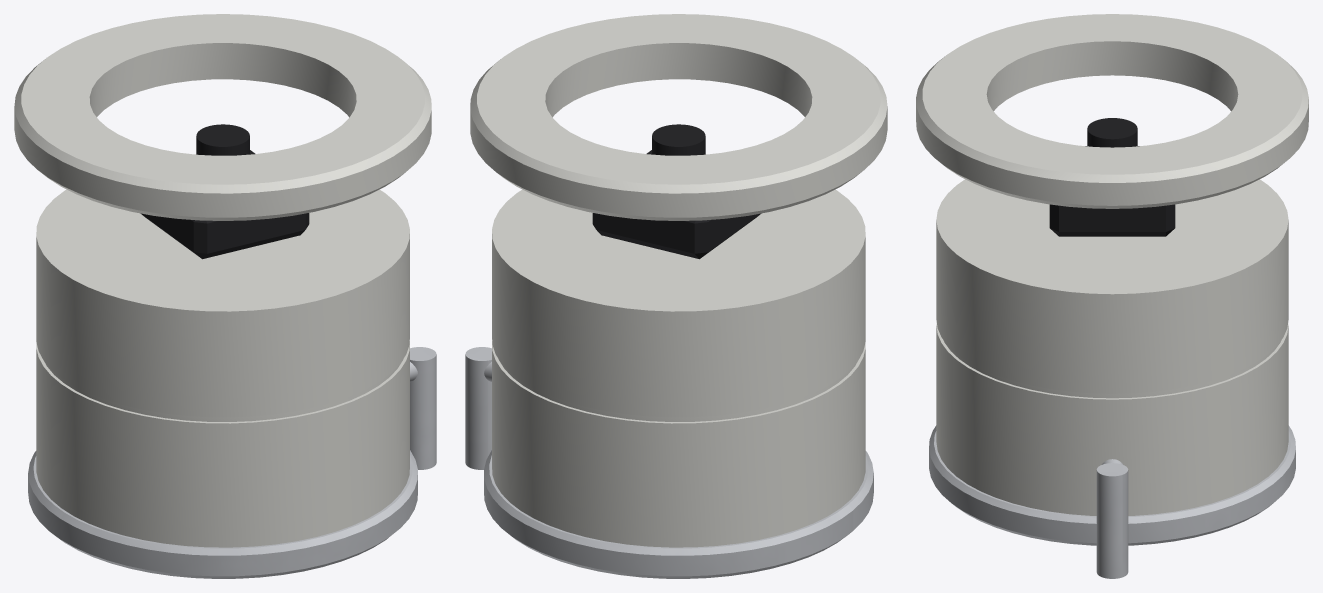
The model's file is ax_prop_17_gridded_ion.glb.
The picture shows the model from 3 angles, left to right: view 1: azimuth 30°, elevation 25°; view 2: azimuth 150°, elevation 25°; view 3: azimuth 270°, elevation 25°; orthographic projection. The views are drawn at different scales.
Parts seen in each view (by area): view 1: discharge_chamber, mount_ring, grid_ring, gimbal, neutraliser; view 2: discharge_chamber, mount_ring, grid_ring, gimbal, neutraliser; view 3: discharge_chamber, mount_ring, grid_ring, gimbal, neutraliser.
Boxes of the visible parts, x1=… form: discharge_chamber: x1=36, y1=154, x2=409, y2=547; mount_ring: x1=14, y1=14, x2=431, y2=220; grid_ring: x1=28, y1=450, x2=417, y2=578; gimbal: x1=140, y1=124, x2=309, y2=259; neutraliser: x1=410, y1=347, x2=436, y2=469; discharge_chamber: x1=492, y1=154, x2=865, y2=547; mount_ring: x1=470, y1=14, x2=887, y2=220; grid_ring: x1=484, y1=450, x2=873, y2=578; gimbal: x1=592, y1=124, x2=761, y2=259; neutraliser: x1=465, y1=347, x2=491, y2=469; discharge_chamber: x1=936, y1=179, x2=1288, y2=515; mount_ring: x1=916, y1=14, x2=1308, y2=208; grid_ring: x1=929, y1=425, x2=1295, y2=545; gimbal: x1=1049, y1=118, x2=1175, y2=236; neutraliser: x1=1096, y1=459, x2=1128, y2=578.
Bounding box in the file's own units: 0.677 × 0.68 × 0.6247.
3 materials, 1 textured.
